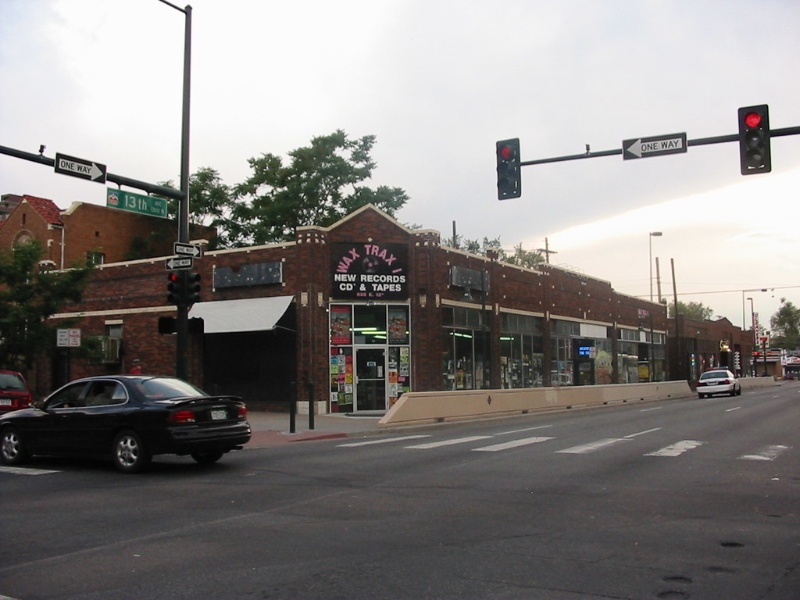one_way: (609, 131, 698, 172), (57, 146, 112, 184)
red_light: (737, 104, 785, 144)
